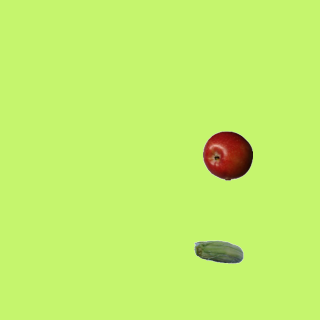Apple Braeburn: (202, 130, 252, 180)
Corn Husk: (193, 228, 243, 278)
